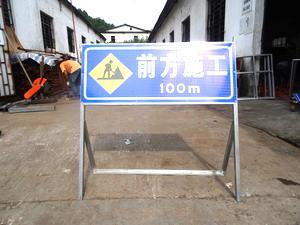sign: (82, 45, 236, 101)
